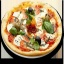pizza: (1, 1, 63, 55)
